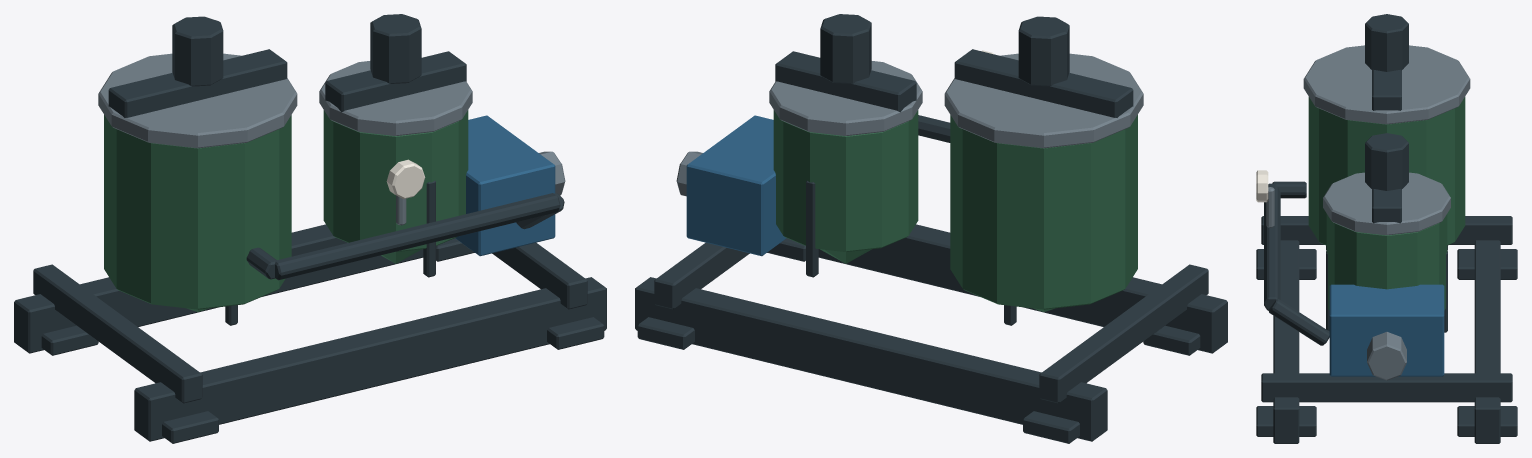
The model's file is b07_twin_tank_grout_injection_skid.glb.
3 renders of one model, left to right at view 1: azimuth 30°, elevation 25°; view 2: azimuth 150°, elevation 25°; view 3: azimuth 270°, elevation 25°, orthographic. The views are drawn at different scales.
Visible parts, largest first — view 1: b07_twin_tank_grout_injection_skid; view 2: b07_twin_tank_grout_injection_skid; view 3: b07_twin_tank_grout_injection_skid.
Boxes of the visible parts, bbox=[...] form: b07_twin_tank_grout_injection_skid: bbox=[14, 14, 606, 443]; b07_twin_tank_grout_injection_skid: bbox=[635, 14, 1227, 443]; b07_twin_tank_grout_injection_skid: bbox=[1256, 14, 1517, 443].
Bounding box in the file's own units: 2.27 × 1.55 × 1.3.
